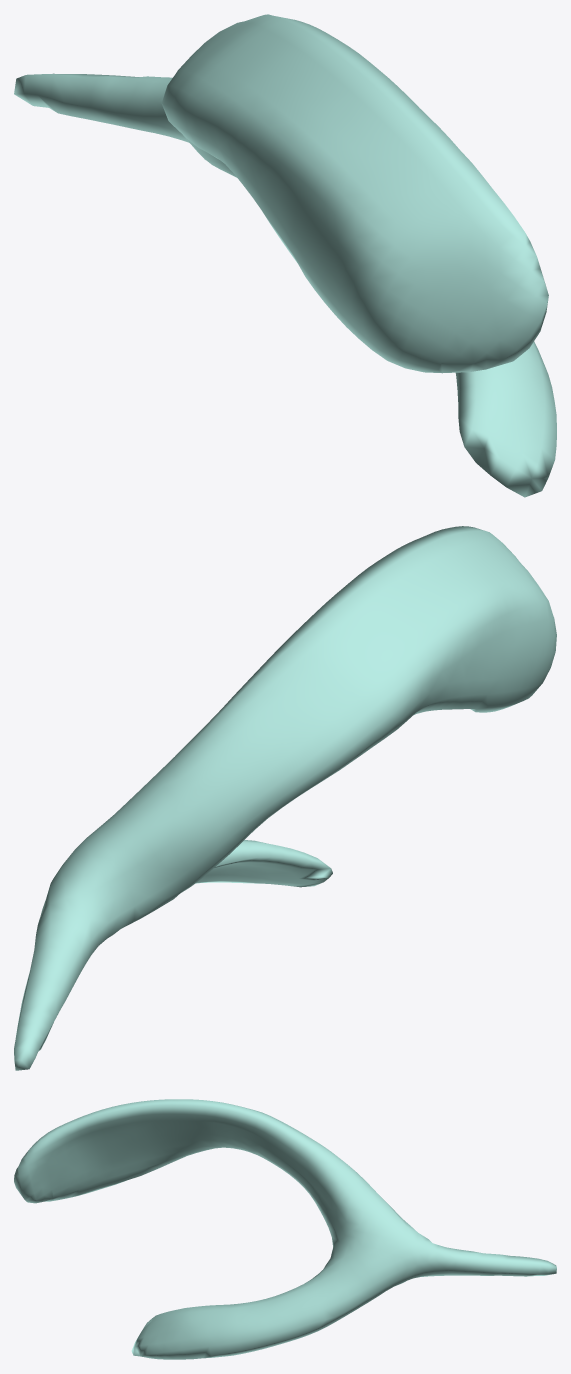
File: Ventricles_WhiteMatter_Lateral ventricle.l.glb
3 renders of one model, top to bottom at view 1: azimuth 30°, elevation 25°; view 2: azimuth 150°, elevation 25°; view 3: azimuth 270°, elevation 25°, orthographic. The views are drawn at different scales.
Visible parts, largest first — view 1: Lateral ventricle.l; view 2: Lateral ventricle.l; view 3: Lateral ventricle.l.
Boxes of the visible parts, x1,y1,x2,y2 form: Lateral ventricle.l: [14, 14, 556, 497]; Lateral ventricle.l: [14, 526, 556, 1070]; Lateral ventricle.l: [14, 1099, 556, 1359].
Size of the model in its own units: 0.0374 by 0.0472 by 0.1059.
